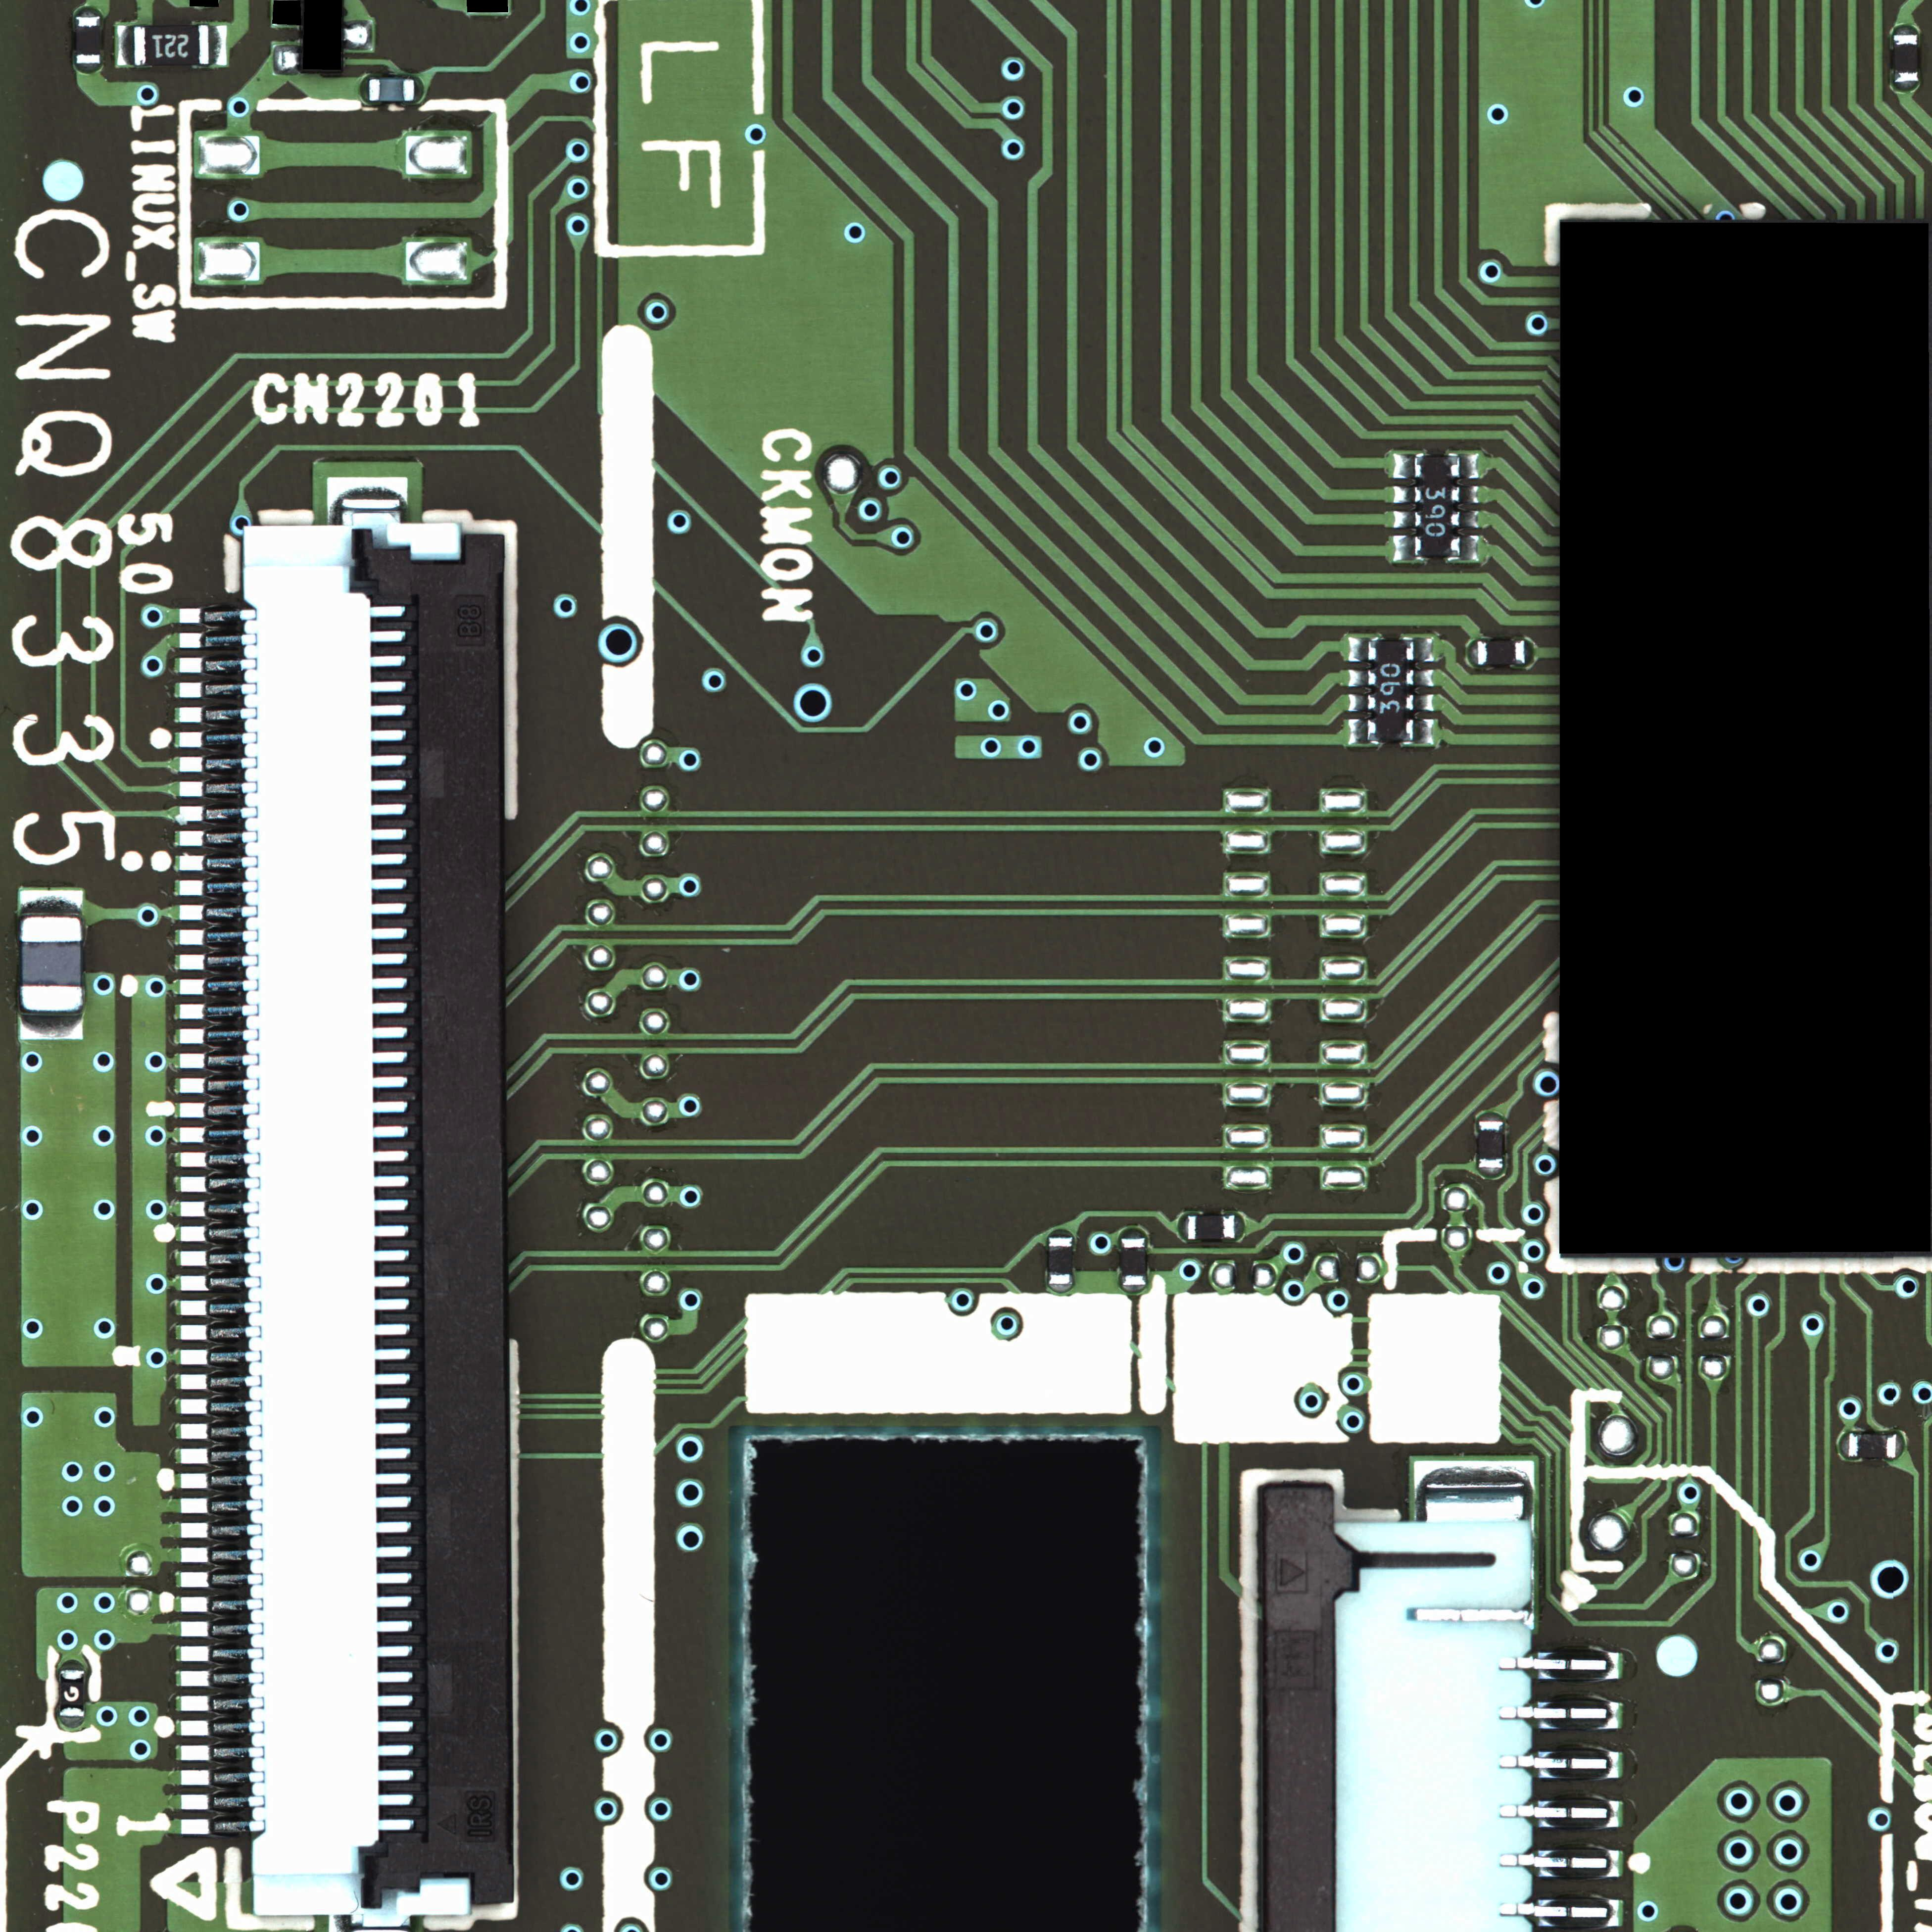Package: (18, 913, 85, 1016), (1368, 640, 1414, 741), (1415, 456, 1460, 557), (134, 25, 209, 65), (1477, 1120, 1504, 1169), (1893, 35, 1920, 83), (74, 16, 101, 64), (1477, 640, 1525, 665), (1849, 1433, 1897, 1458), (1187, 1215, 1235, 1240), (1047, 1237, 1072, 1284), (1122, 1238, 1146, 1284), (60, 1670, 83, 1718), (370, 78, 414, 103)
Solder: (19, 1017, 83, 1040), (19, 890, 83, 913), (343, 21, 372, 51), (274, 44, 301, 76), (117, 25, 134, 67), (209, 25, 226, 65), (1391, 534, 1414, 563), (1345, 718, 1368, 745), (1392, 453, 1414, 479), (1460, 453, 1481, 479), (1346, 637, 1368, 663), (1414, 637, 1435, 663), (1414, 720, 1435, 745), (1461, 536, 1481, 563), (1392, 510, 1414, 529), (1392, 485, 1414, 504), (1346, 669, 1368, 688), (1346, 694, 1368, 713), (1414, 669, 1435, 688), (1461, 485, 1481, 504), (1461, 511, 1483, 529), (1414, 694, 1435, 711), (1118, 1224, 1146, 1237), (1476, 1109, 1506, 1120), (1177, 1212, 1187, 1242), (1235, 1214, 1246, 1242), (414, 76, 425, 104), (74, 64, 103, 74), (1525, 640, 1536, 669), (1477, 1169, 1506, 1180), (1047, 1284, 1074, 1295), (1467, 640, 1477, 667), (60, 1718, 87, 1729), (1893, 23, 1920, 34), (1897, 1430, 1905, 1460), (1838, 1433, 1849, 1458), (1120, 1286, 1148, 1295), (359, 76, 368, 104), (74, 7, 101, 16), (58, 1660, 85, 1668), (1893, 83, 1920, 92), (1047, 1228, 1072, 1237)
